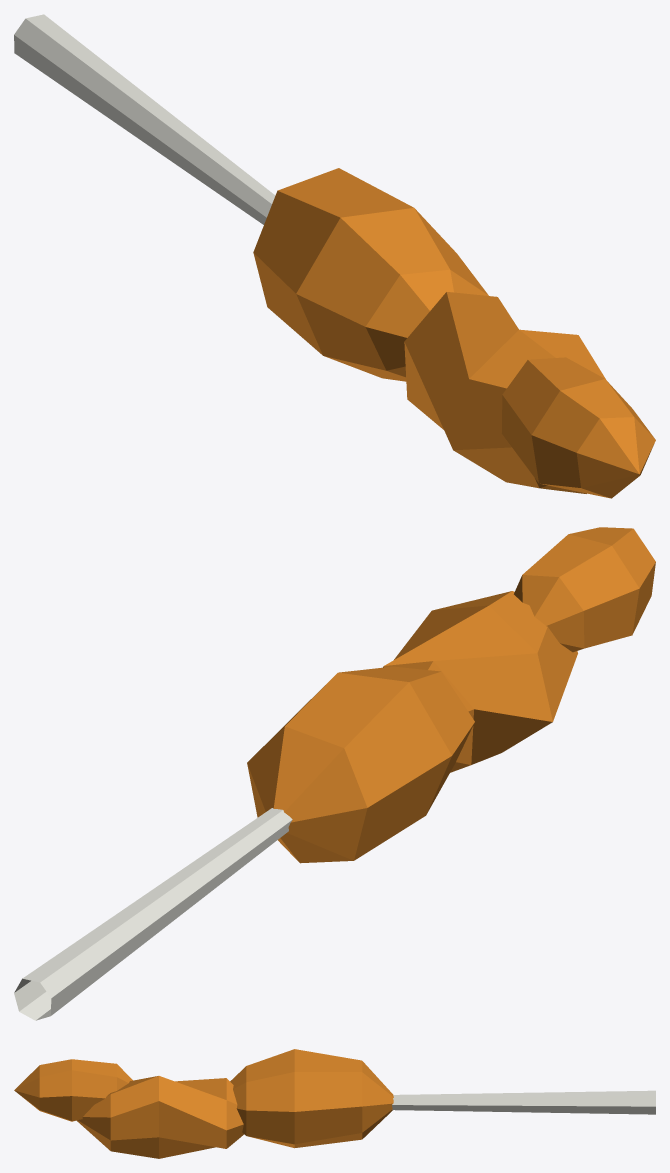
Rendered from dying_0.glb.
3 views of the same model, one above another, from view 1: azimuth 30°, elevation 25°; view 2: azimuth 150°, elevation 25°; view 3: azimuth 270°, elevation 25° (orthographic). The views are drawn at different scales.
Parts seen in each view (by area): view 1: tree_03_dying_0; view 2: tree_03_dying_0; view 3: tree_03_dying_0.
Part boxes in pixels (<box>): tree_03_dying_0: <box>14,14,655,498</box>; tree_03_dying_0: <box>14,527,655,1020</box>; tree_03_dying_0: <box>14,1049,655,1158</box>.
Size of the model in its own units: 6.45 by 6.41 by 40.52.
